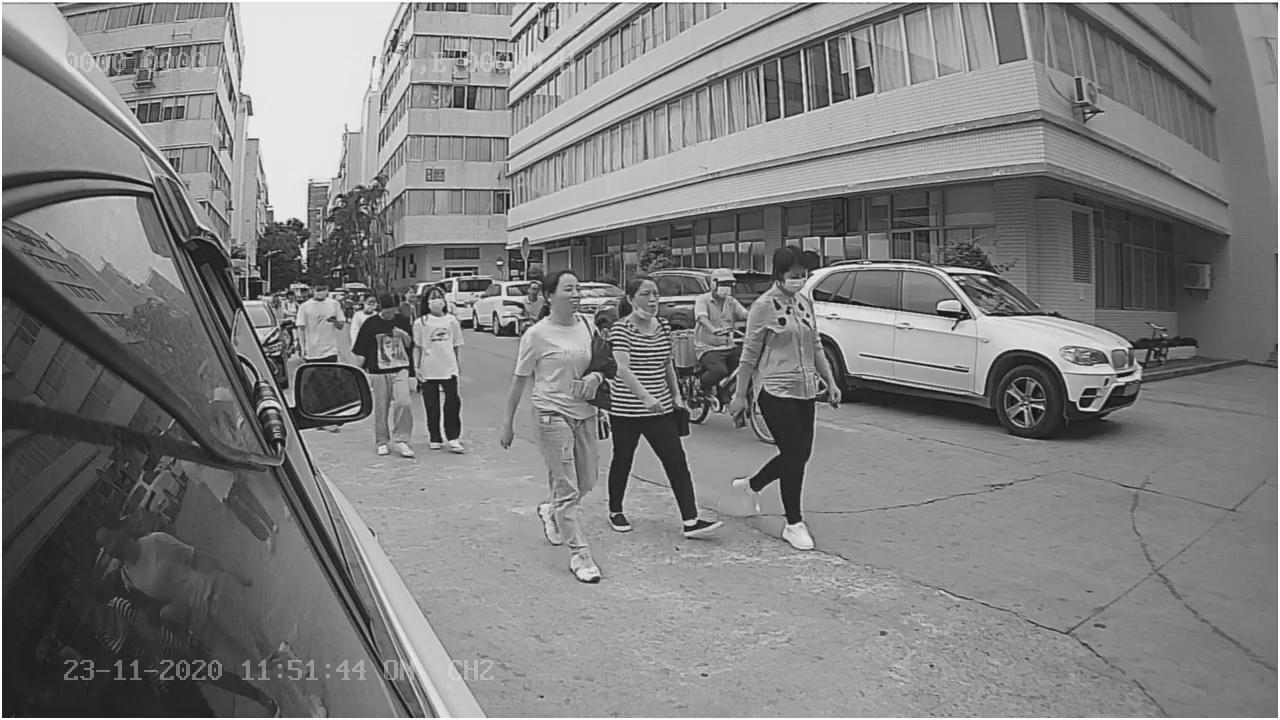person: (730, 244, 862, 558), (497, 260, 616, 581), (413, 281, 471, 456)
